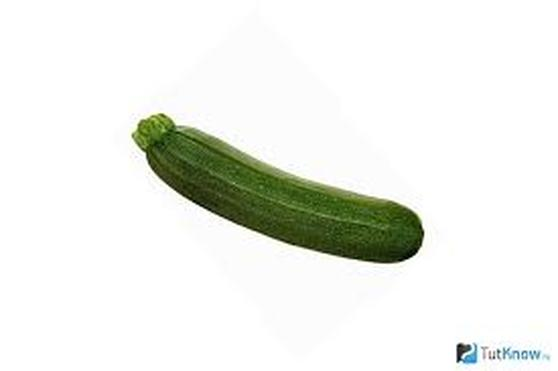zucchini: (129, 105, 432, 273)
